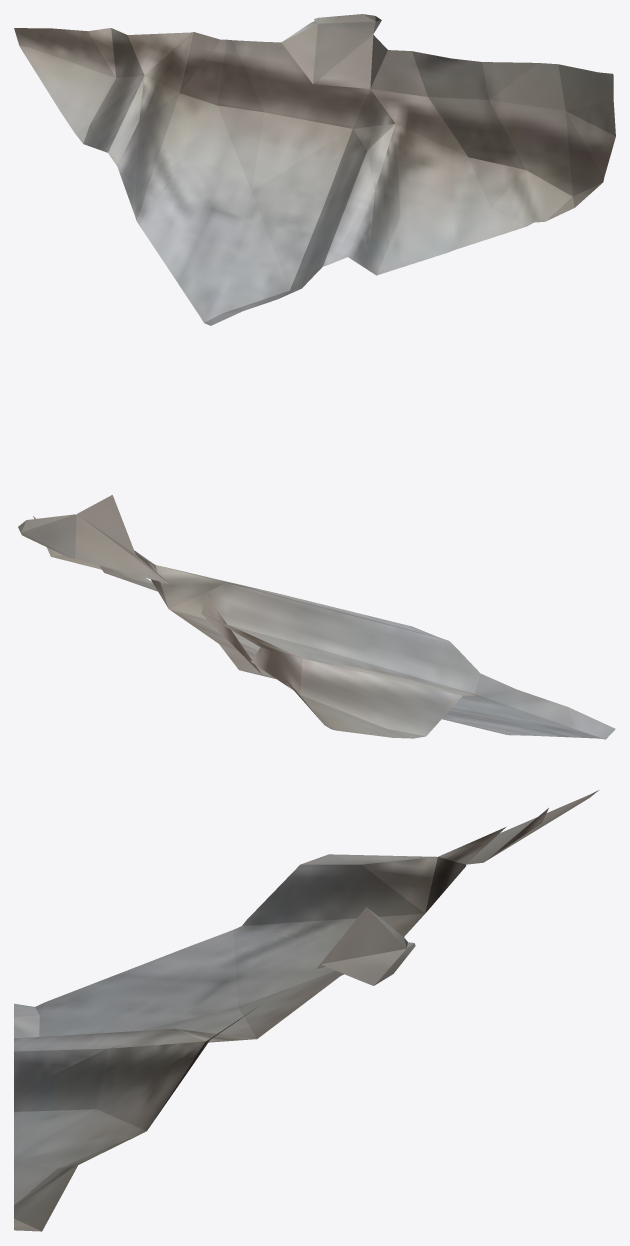
3 views of the same model, one above another, from view 1: azimuth 30°, elevation 25°; view 2: azimuth 150°, elevation 25°; view 3: azimuth 270°, elevation 25° (orthographic). The views are drawn at different scales.
Bounding box in the file's own units: 0.4694 × 0.1728 × 0.3952.
1 material, 1 textured.
